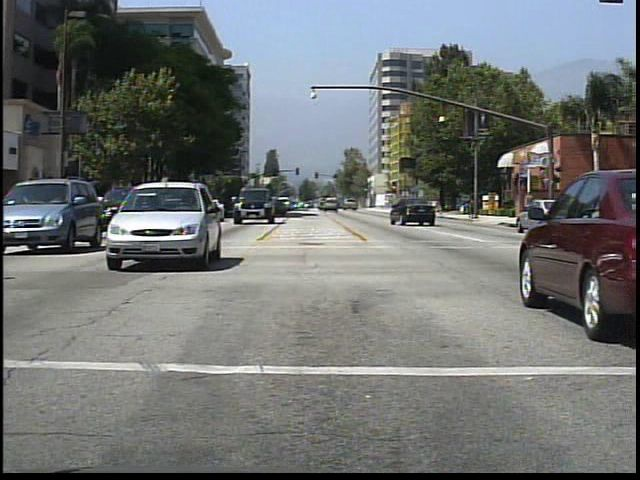person: (566, 190, 586, 235), (520, 192, 538, 229)
